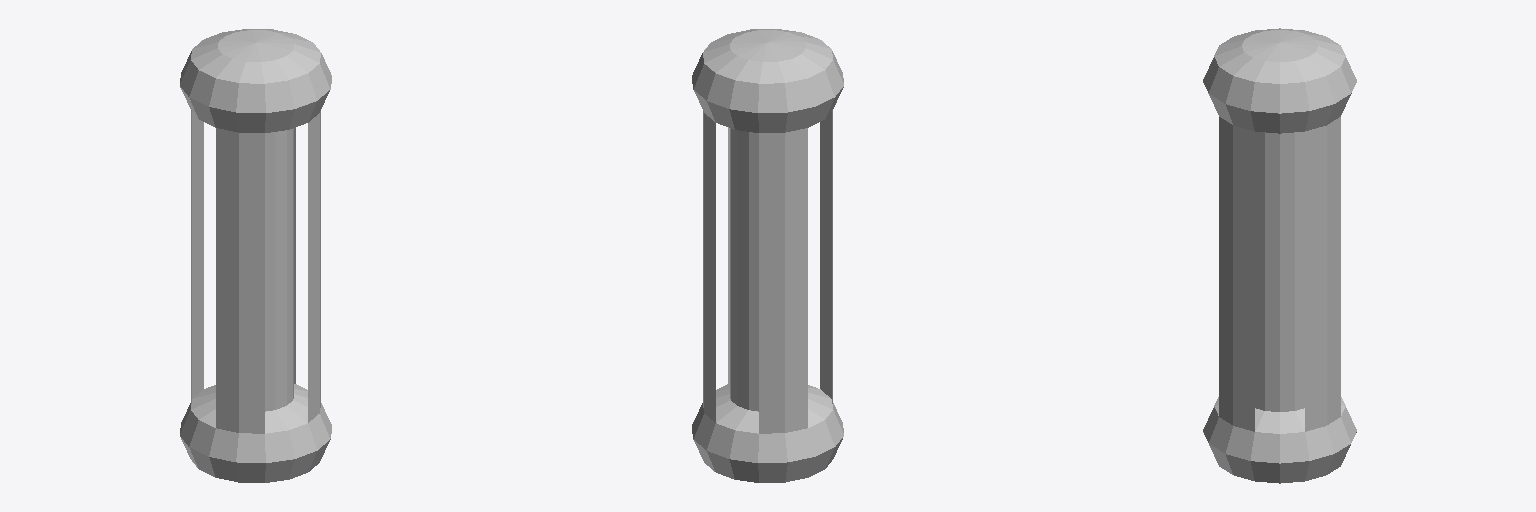
The model's file is NuclearRod.obj.
3 renders of one model, left to right at view 1: azimuth 30°, elevation 25°; view 2: azimuth 150°, elevation 25°; view 3: azimuth 270°, elevation 25°, orthographic.
Visible parts, largest first — view 1: UraniumRod; view 2: UraniumRod; view 3: UraniumRod.
Boxes of the visible parts, x1,y1,x2,y2 form: UraniumRod: [180, 29, 331, 482]; UraniumRod: [692, 29, 843, 482]; UraniumRod: [1203, 28, 1356, 483].
Bounding box in the file's own units: 0.25 × 0.7625 × 0.25.